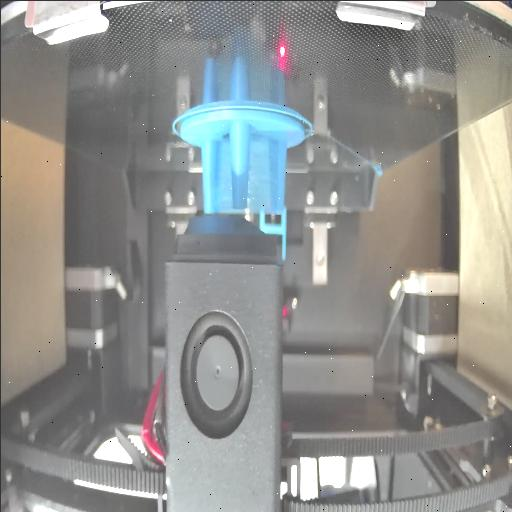stringing: (247, 125, 277, 213), (211, 126, 230, 214)
